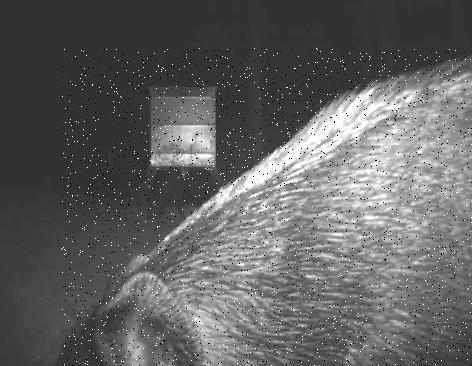Hog: (61, 48, 472, 366), (146, 164, 208, 219)
